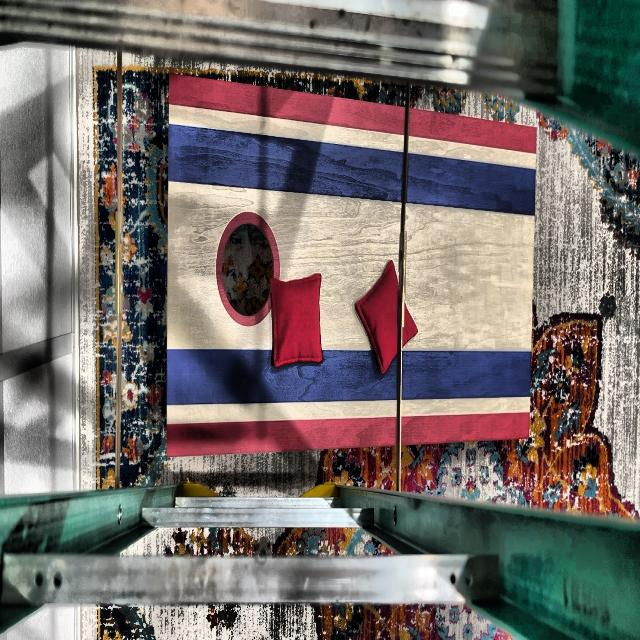board: (168, 128, 529, 437)
hole: (216, 211, 280, 325)
red-bean-bag: (354, 263, 419, 376), (272, 276, 322, 368)
